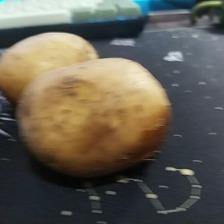Damaged potato: (18, 58, 173, 173)
Potato: (0, 32, 100, 98)
